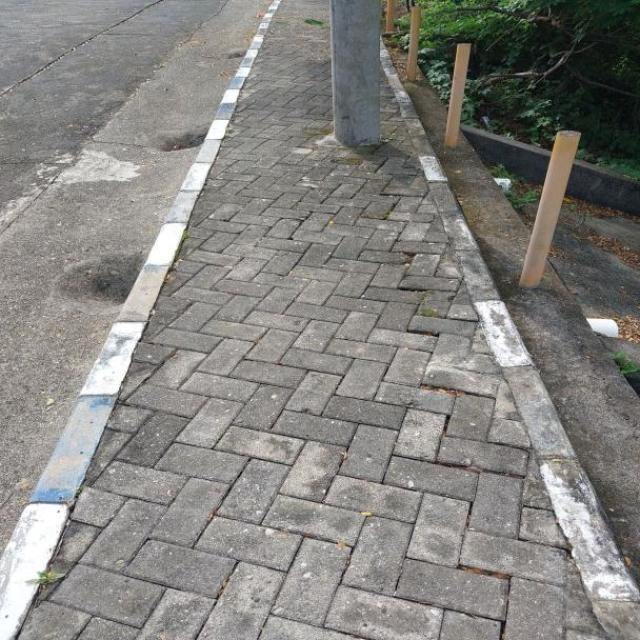barrier ahead at: (514, 121, 584, 302), (440, 29, 480, 155)
